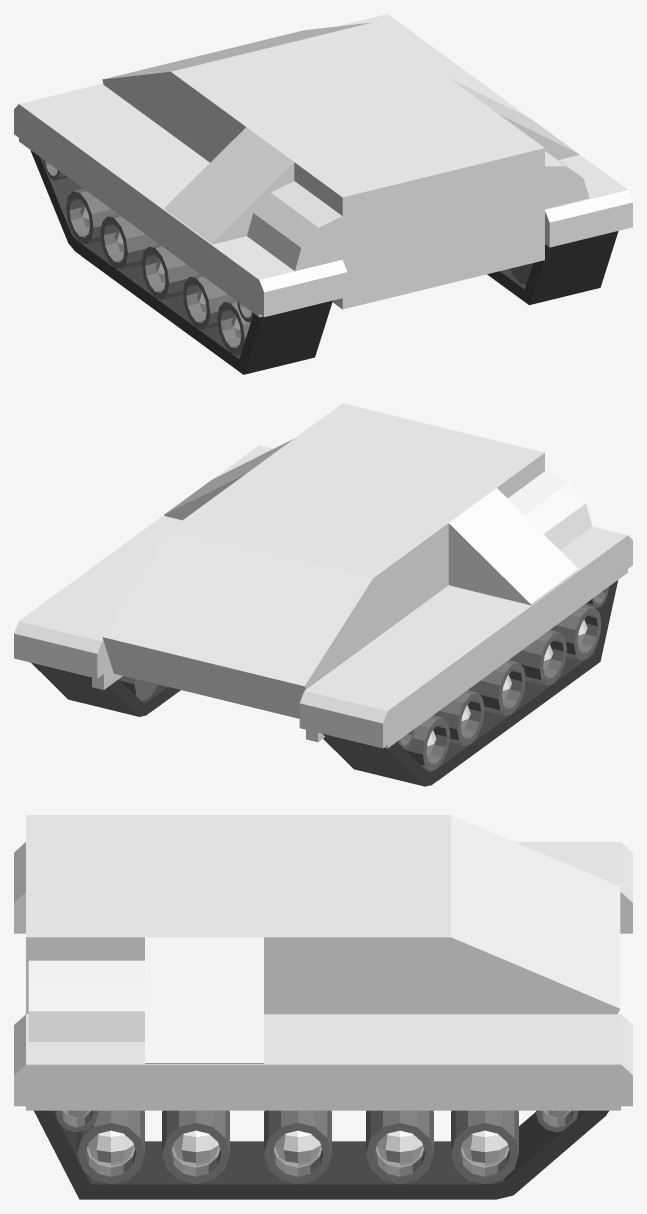
Rendered from hunter 1.dae.
3 renders of one model, top to bottom at view 1: azimuth 30°, elevation 25°; view 2: azimuth 150°, elevation 25°; view 3: azimuth 270°, elevation 25°, orthographic. The views are drawn at different scales.
Parts seen in each view (by area): view 1: cube, tracks_L, wheel (×5), tracks_R; view 2: cube, wheel (×5), tracks_L, tracks_R; view 3: cube, wheel (×5), tracks_R, small_wheel (×2).
Boxes of the visible parts, x1,y1,x2,y2 form: cube: [14, 14, 632, 317]; tracks_L: [30, 150, 332, 374]; wheel (×5): [66, 188, 250, 354]; tracks_R: [487, 231, 618, 305]; cube: [14, 403, 632, 748]; wheel (×5): [405, 605, 601, 770]; tracks_L: [323, 580, 617, 786]; tracks_R: [31, 662, 180, 716]; cube: [14, 815, 632, 1110]; wheel (×5): [77, 1110, 518, 1184]; tracks_R: [34, 1110, 608, 1199]; small_wheel (×2): [55, 1110, 578, 1132].
Bounding box in the file's own units: 1.94 × 0.8762 × 2.28.
1 material, 1 textured.
